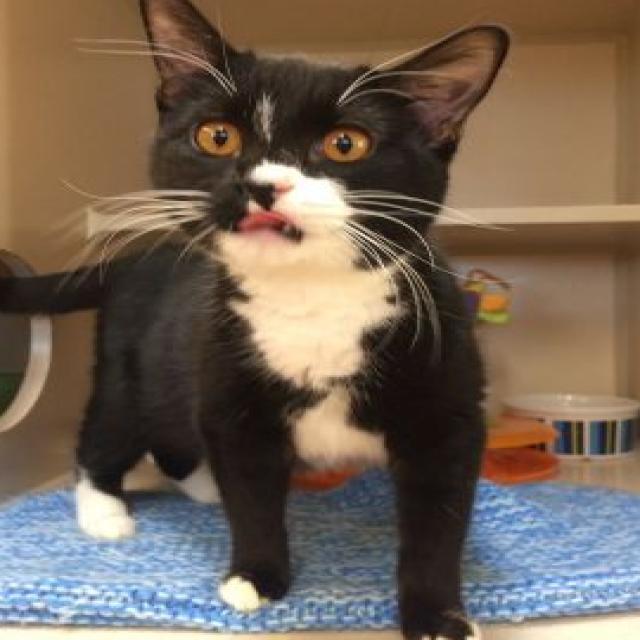Tuxedo: (0, 0, 517, 640)
